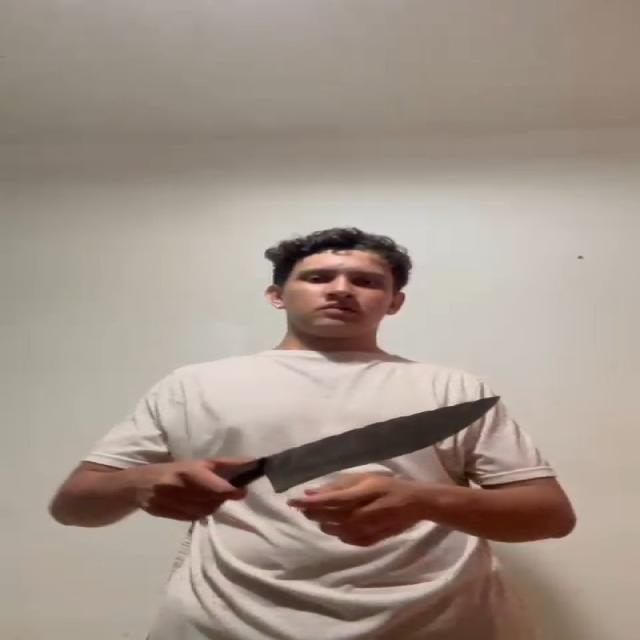knife: (265, 394, 505, 494)
